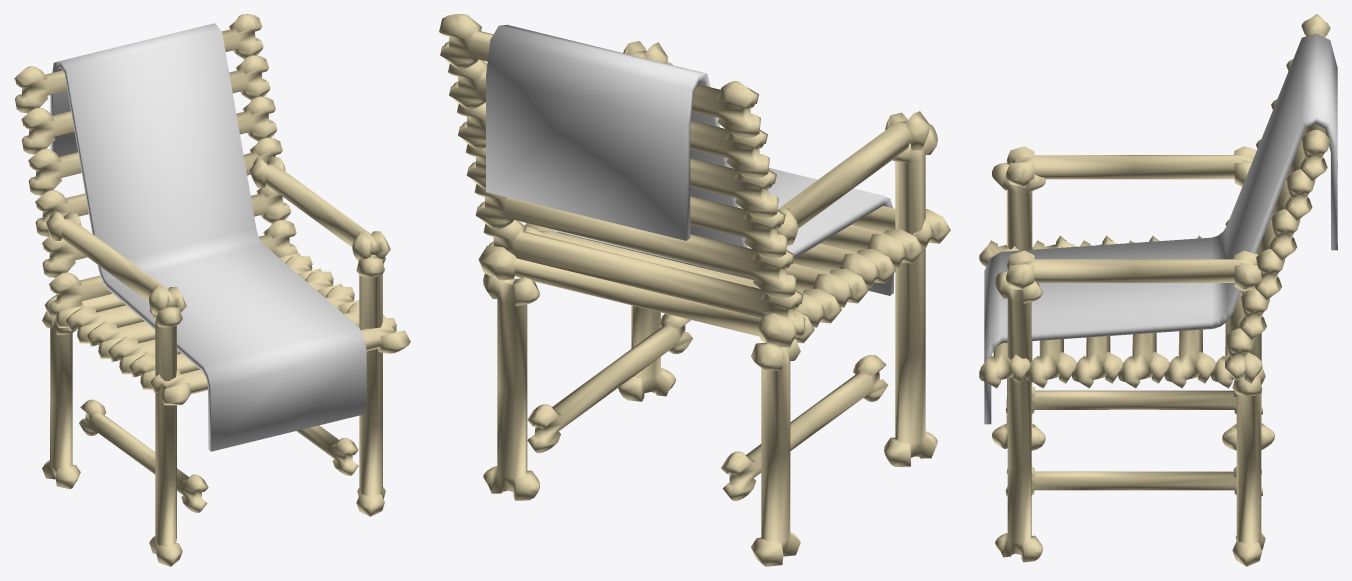
File: Bones-Silla.fbx
The picture shows the model from 3 angles, left to right: view 1: azimuth 30°, elevation 25°; view 2: azimuth 150°, elevation 25°; view 3: azimuth 270°, elevation 25°; orthographic projection. The views are drawn at different scales.
Parts seen in each view (by area): view 1: Cylinder.005; view 2: Cylinder.005; view 3: Cylinder.005.
Part boxes in pixels (<box>): Cylinder.005: <box>14,14,410,566</box>; Cylinder.005: <box>439,14,950,566</box>; Cylinder.005: <box>979,14,1337,566</box>.
Size of the model in its own units: 226 by 345 by 259.
